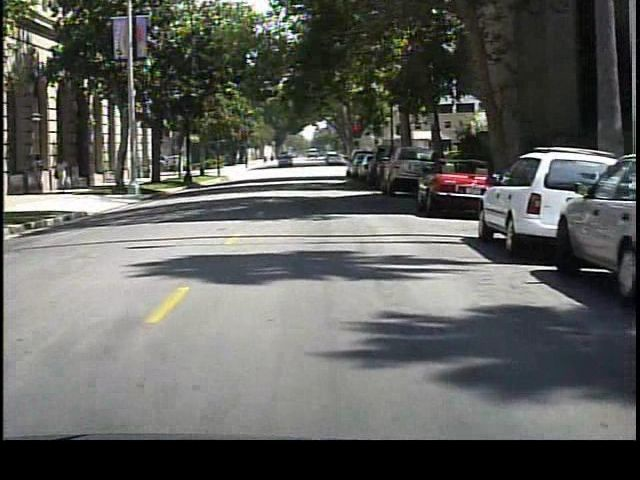person: (49, 153, 75, 193), (32, 150, 52, 191)
